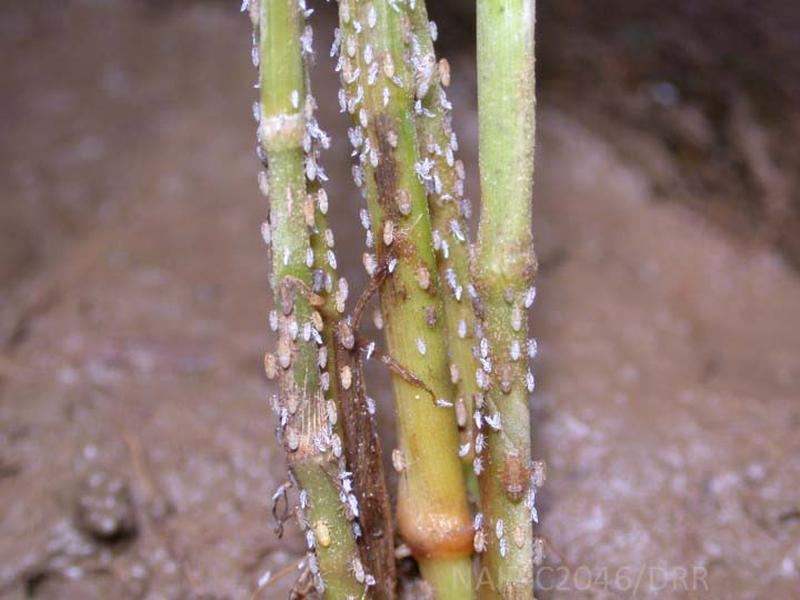White_backed_plant_hopper: (333, 31, 554, 570), (246, 108, 396, 584)
